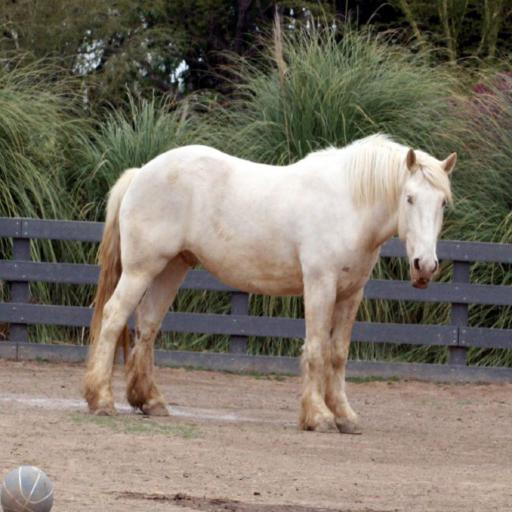horse: (67, 118, 460, 428)
